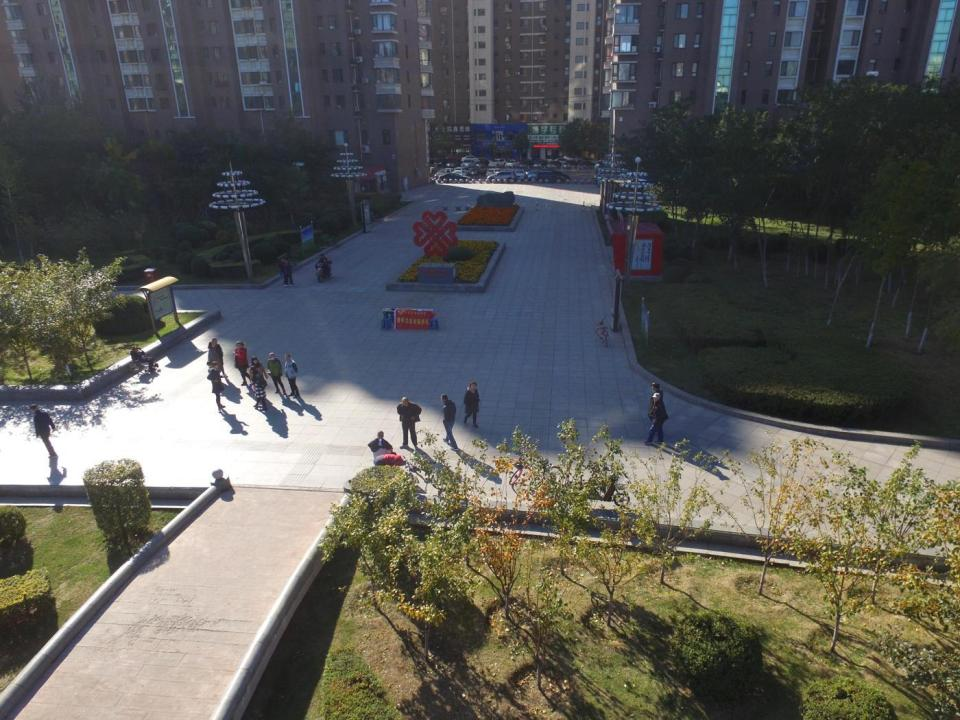car: (535, 171, 564, 184), (486, 171, 516, 183), (590, 158, 615, 171), (542, 171, 571, 181), (438, 174, 474, 182), (510, 167, 527, 181), (488, 158, 507, 169), (486, 166, 502, 178), (532, 158, 548, 170), (546, 158, 562, 170), (460, 154, 479, 164), (564, 153, 582, 163), (435, 168, 452, 178), (540, 167, 554, 179), (579, 157, 597, 166), (505, 158, 521, 168), (433, 157, 448, 167), (473, 156, 491, 164), (475, 159, 489, 169), (453, 170, 467, 179), (504, 168, 516, 178), (528, 168, 538, 180), (448, 158, 461, 167), (443, 166, 454, 176), (554, 157, 568, 164), (478, 167, 487, 177), (462, 160, 475, 166), (468, 169, 478, 176)
van: (454, 165, 472, 176)
